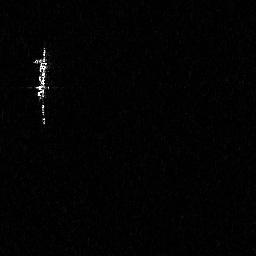ship: (27, 44, 58, 130)
